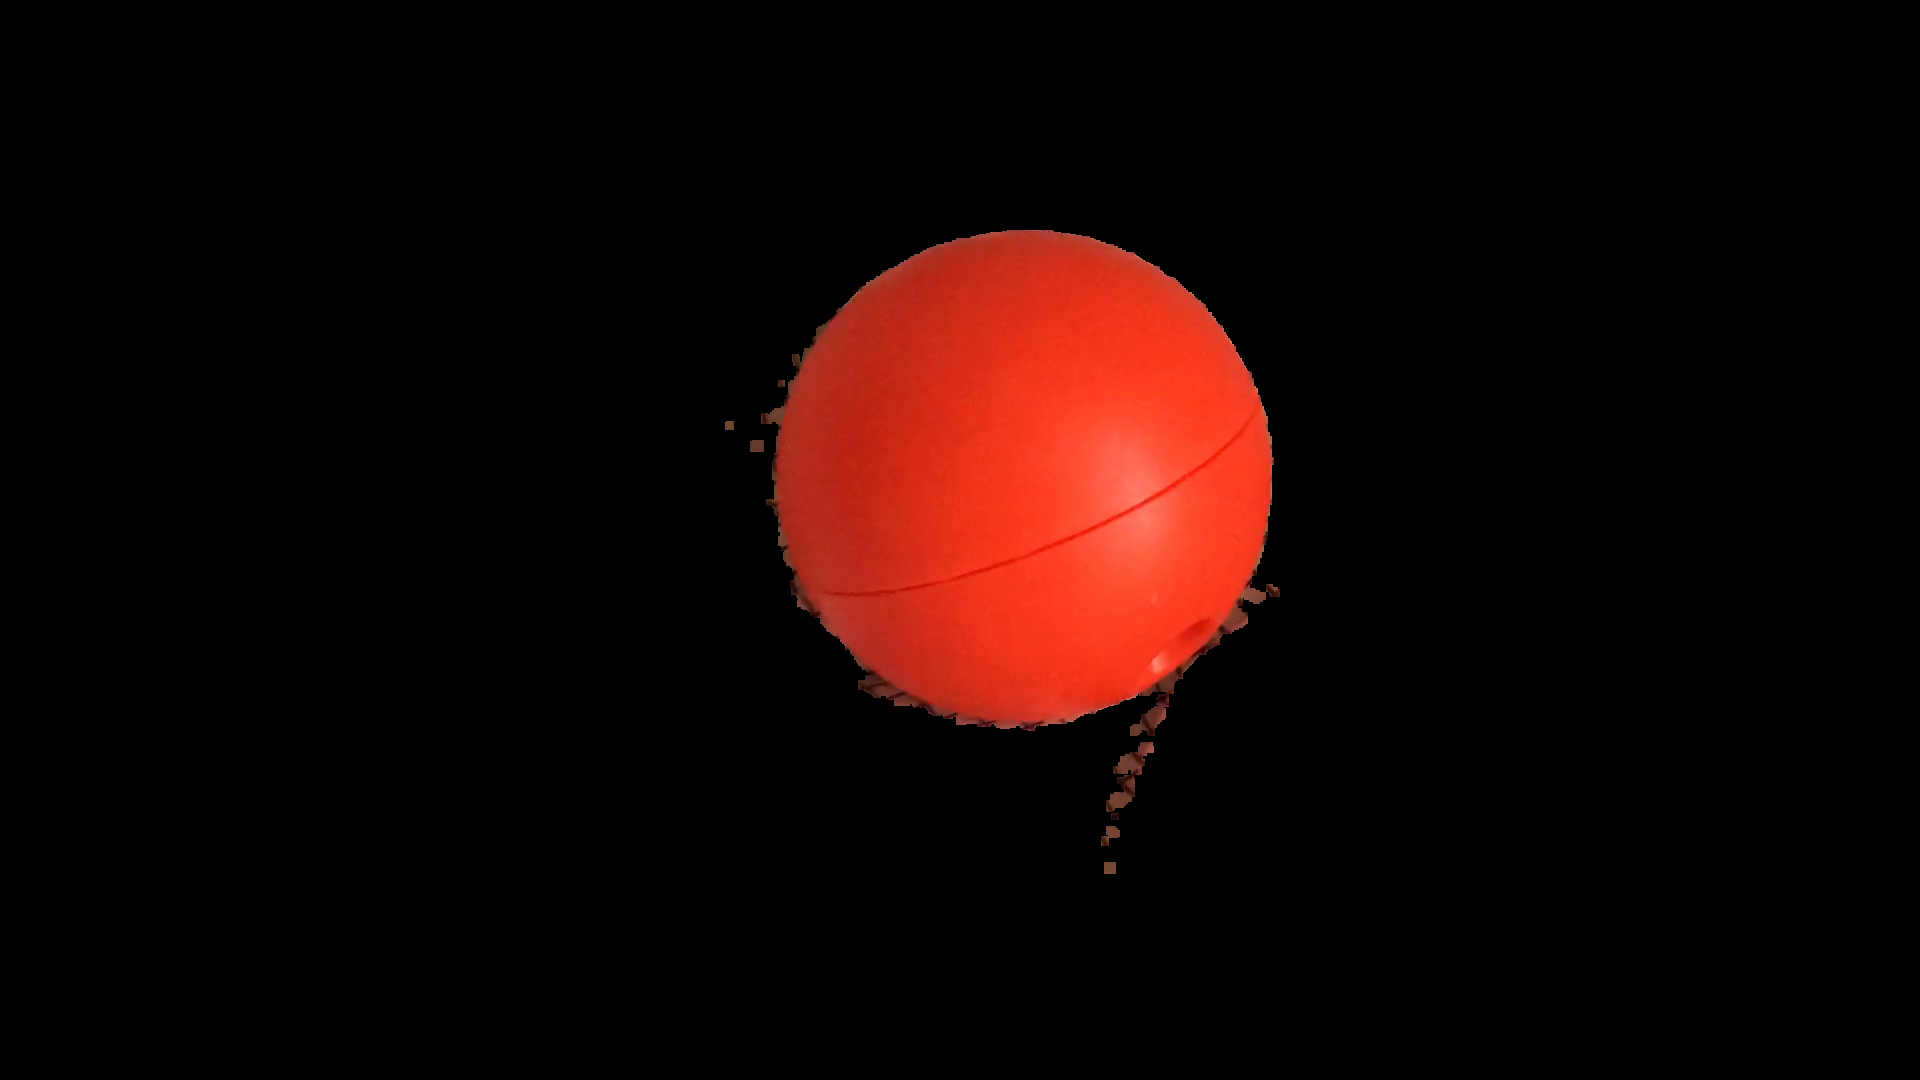Ball: (785, 229, 1274, 717)
